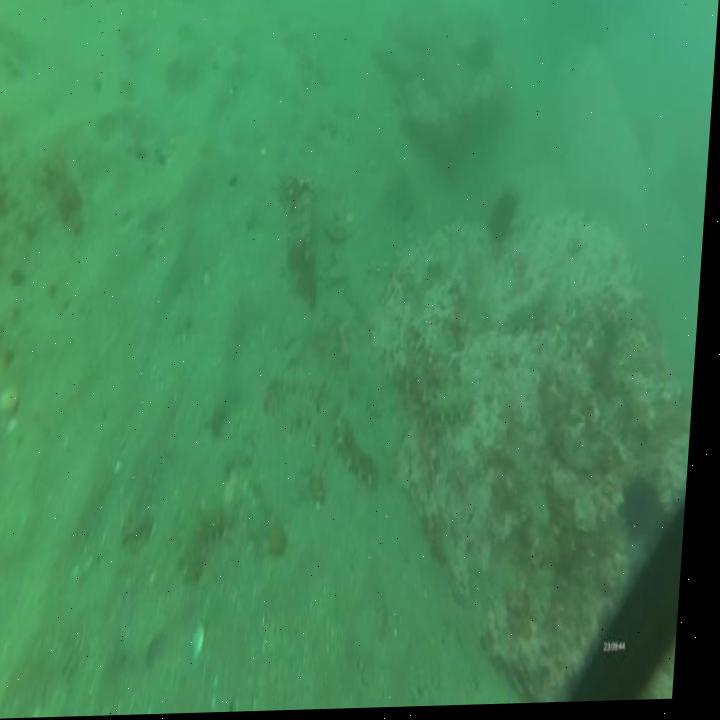echinus: (632, 471, 675, 555), (492, 185, 521, 248)
holothurian: (189, 497, 243, 587), (338, 413, 393, 497), (423, 387, 486, 434)
